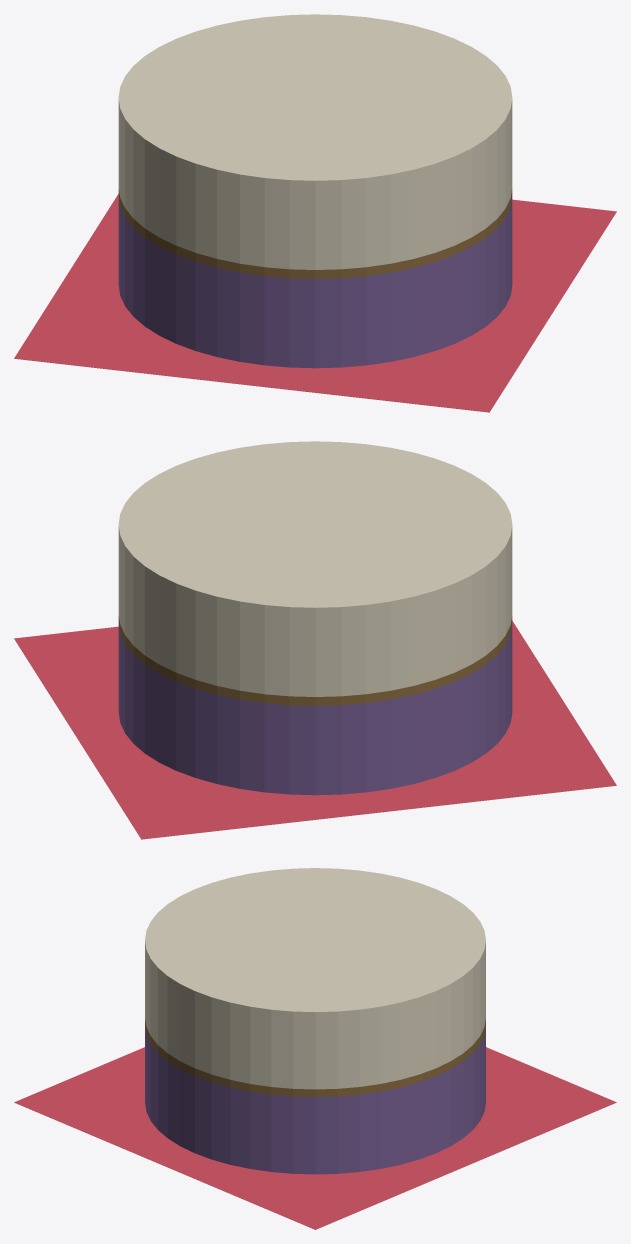
The model's file is UCV.glb.
The picture shows the model from 3 angles, top to bottom: view 1: azimuth 30°, elevation 25°; view 2: azimuth 150°, elevation 25°; view 3: azimuth 270°, elevation 25°; orthographic projection. The views are drawn at different scales.
Parts seen in each view (by area): view 1: Mesh_Mesh_head_geo.001_lambert2SG.001; view 2: Mesh_Mesh_head_geo.001_lambert2SG.001; view 3: Mesh_Mesh_head_geo.001_lambert2SG.001.
Boxes of the visible parts, x1,y1,x2,y2 form: Mesh_Mesh_head_geo.001_lambert2SG.001: (14, 14, 616, 412); Mesh_Mesh_head_geo.001_lambert2SG.001: (14, 441, 616, 839); Mesh_Mesh_head_geo.001_lambert2SG.001: (14, 868, 616, 1229).
Size of the model in its own units: 0.0354 by 0.0105 by 0.0354.
